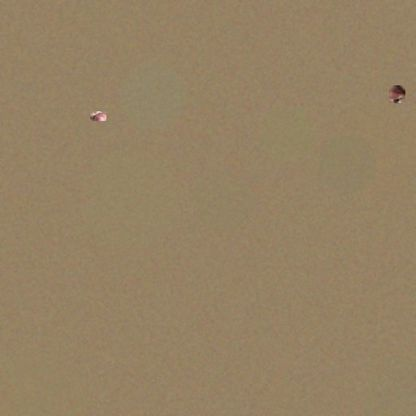sprouted: (389, 85, 405, 103), (90, 111, 106, 121)
